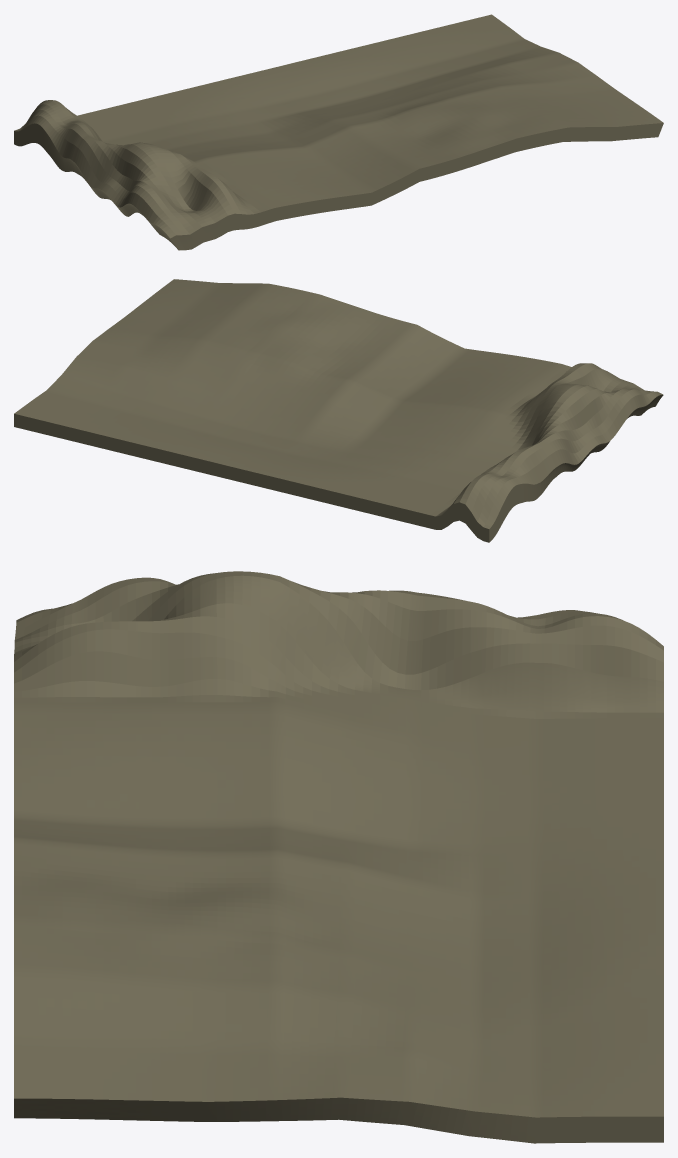
File: camp_ground.fbx
3 renders of one model, top to bottom at view 1: azimuth 30°, elevation 25°; view 2: azimuth 150°, elevation 25°; view 3: azimuth 270°, elevation 25°, orthographic. The views are drawn at different scales.
Visible parts, largest first — view 1: pPlane3; view 2: pPlane3; view 3: pPlane3.
Part boxes in pixels (bbox=[...]): pPlane3: bbox=[14, 14, 663, 250]; pPlane3: bbox=[14, 279, 663, 542]; pPlane3: bbox=[14, 571, 663, 1143].
Size of the model in its own units: 341 by 49.05 by 198.
